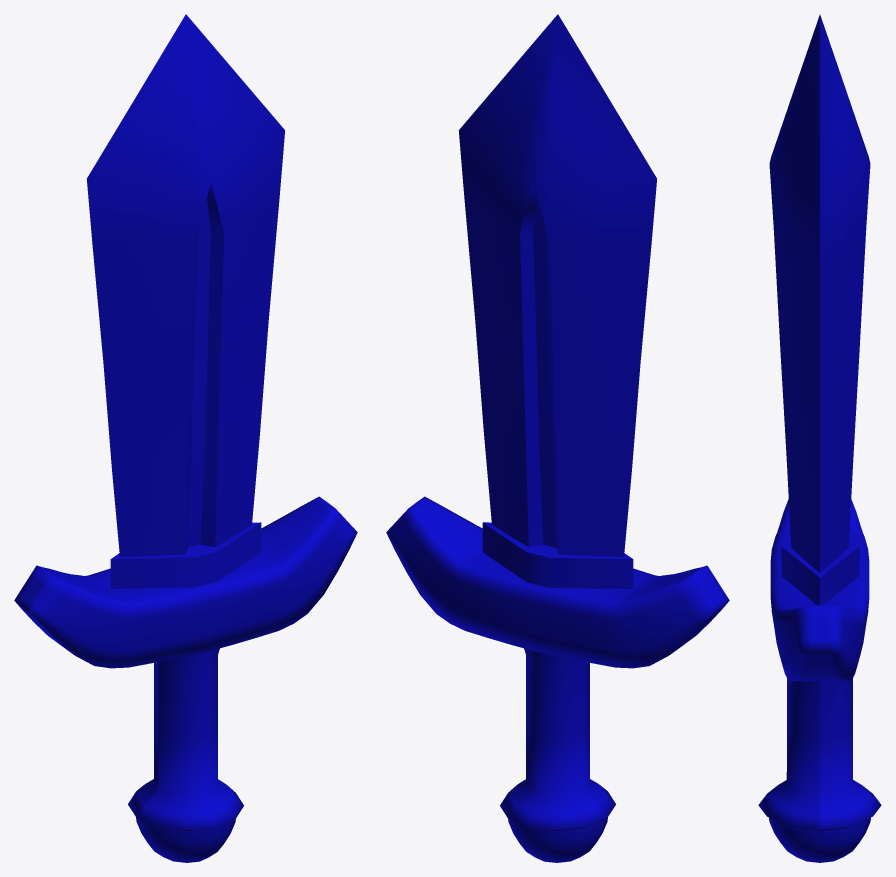
The model's file is attack_sword.obj.
3 views of the same model, side by side, from view 1: azimuth 30°, elevation 25°; view 2: azimuth 150°, elevation 25°; view 3: azimuth 270°, elevation 25° (orthographic).
Visible parts, largest first — view 1: blade_low__MI_sowrdA, handle_low__MI_sowrdA, catch_low__MI_sowrdA, handle_low__MI_sowrdAball; view 2: blade_low__MI_sowrdA, handle_low__MI_sowrdA, catch_low__MI_sowrdA, handle_low__MI_sowrdAball; view 3: blade_low__MI_sowrdA, handle_low__MI_sowrdA, catch_low__MI_sowrdA, handle_low__MI_sowrdAball.
Part boxes in pixels (x1,y1,x2,y2): blade_low__MI_sowrdA: [87, 14, 284, 556]; handle_low__MI_sowrdA: [14, 496, 357, 831]; catch_low__MI_sowrdA: [110, 522, 261, 588]; handle_low__MI_sowrdAball: [136, 817, 235, 862]; blade_low__MI_sowrdA: [458, 14, 656, 556]; handle_low__MI_sowrdA: [386, 496, 729, 831]; catch_low__MI_sowrdA: [482, 522, 633, 588]; handle_low__MI_sowrdAball: [508, 817, 607, 862]; blade_low__MI_sowrdA: [769, 14, 870, 572]; handle_low__MI_sowrdA: [758, 499, 881, 831]; catch_low__MI_sowrdA: [781, 527, 859, 605]; handle_low__MI_sowrdAball: [769, 817, 870, 862].
Bounding box in the file's own units: 0.00947 × 0.0234 × 0.00309.
